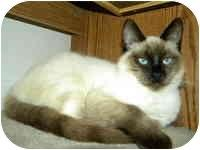siamese: (116, 14, 198, 99)
